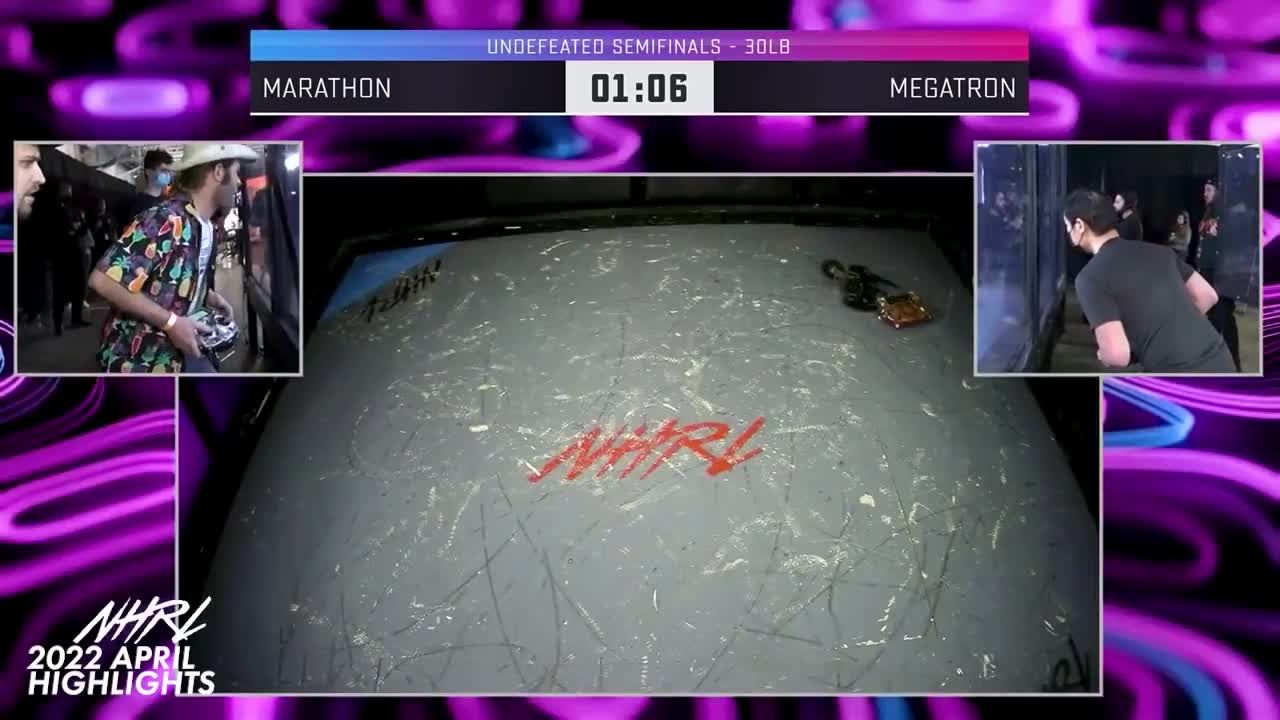combatbot: (839, 266, 925, 330), (820, 260, 857, 282)
